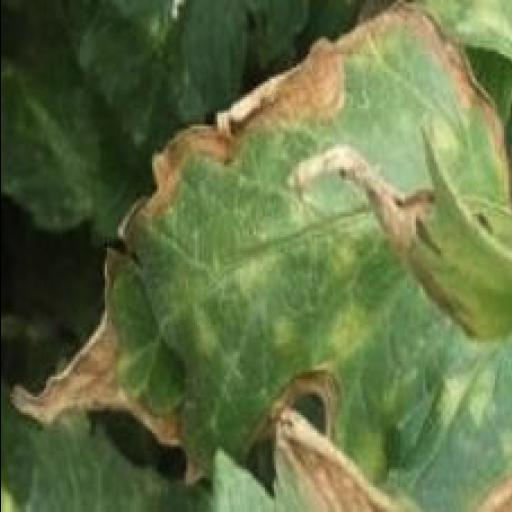disease_tomato: (10, 0, 512, 512)
